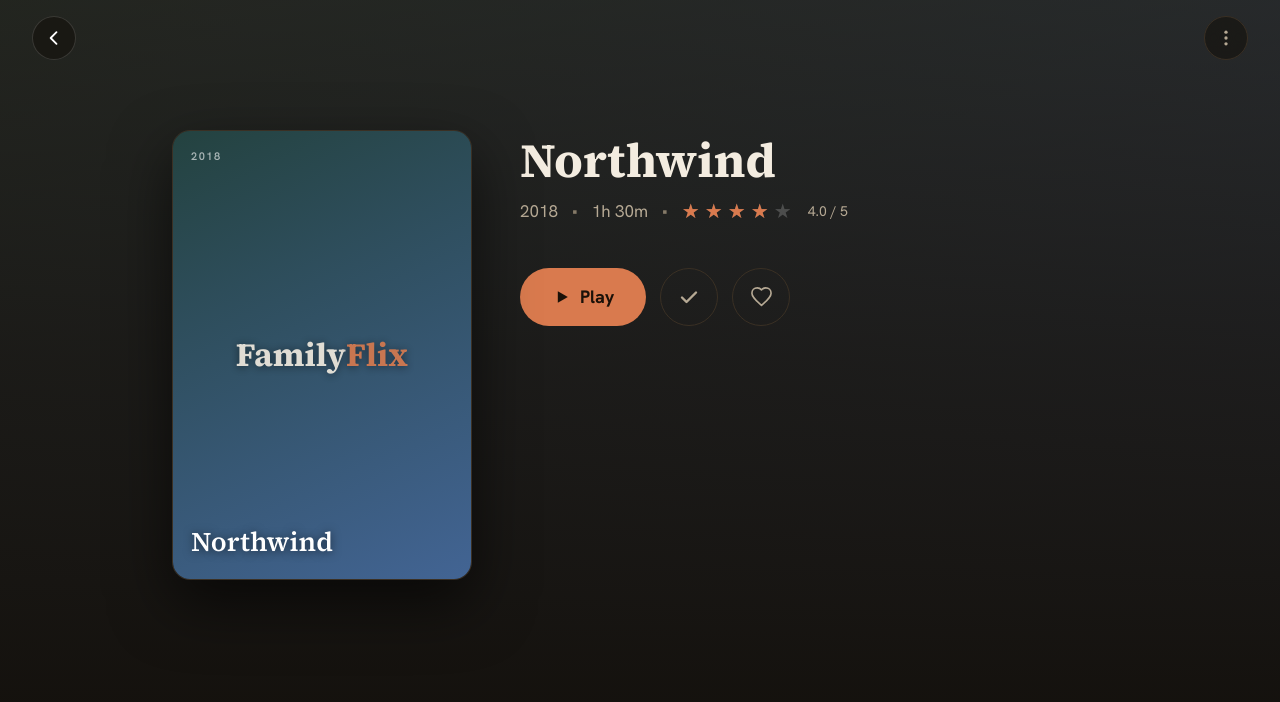
Scenario: App — the movie page’s navigating actions › opens Edit details on the form, pre-filled with that movie
Expected: the heading "Northwind" is shown, [520,127,776,193]
Step 1. Click the button named "more options" → x=1226, y=38, box [1204,16,1248,60]
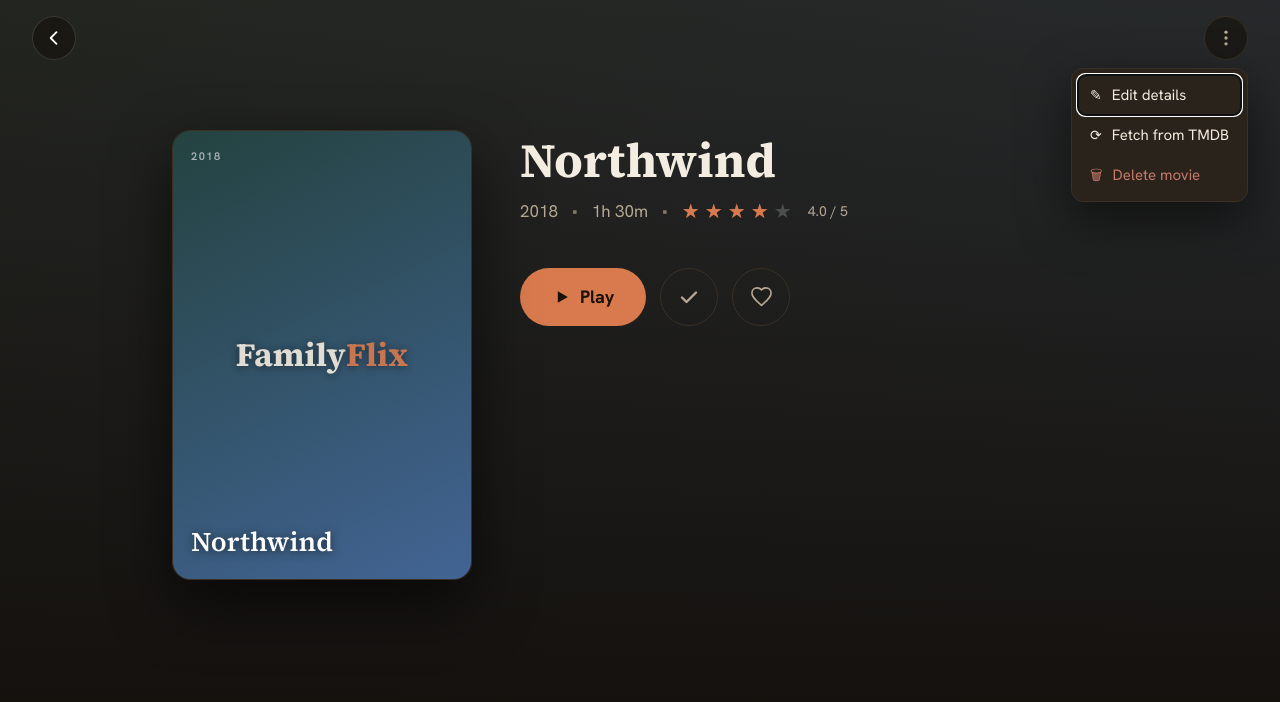
Step 2. Click the menu item "✎ Edit details" → x=1160, y=95, box [1078,75,1241,115]
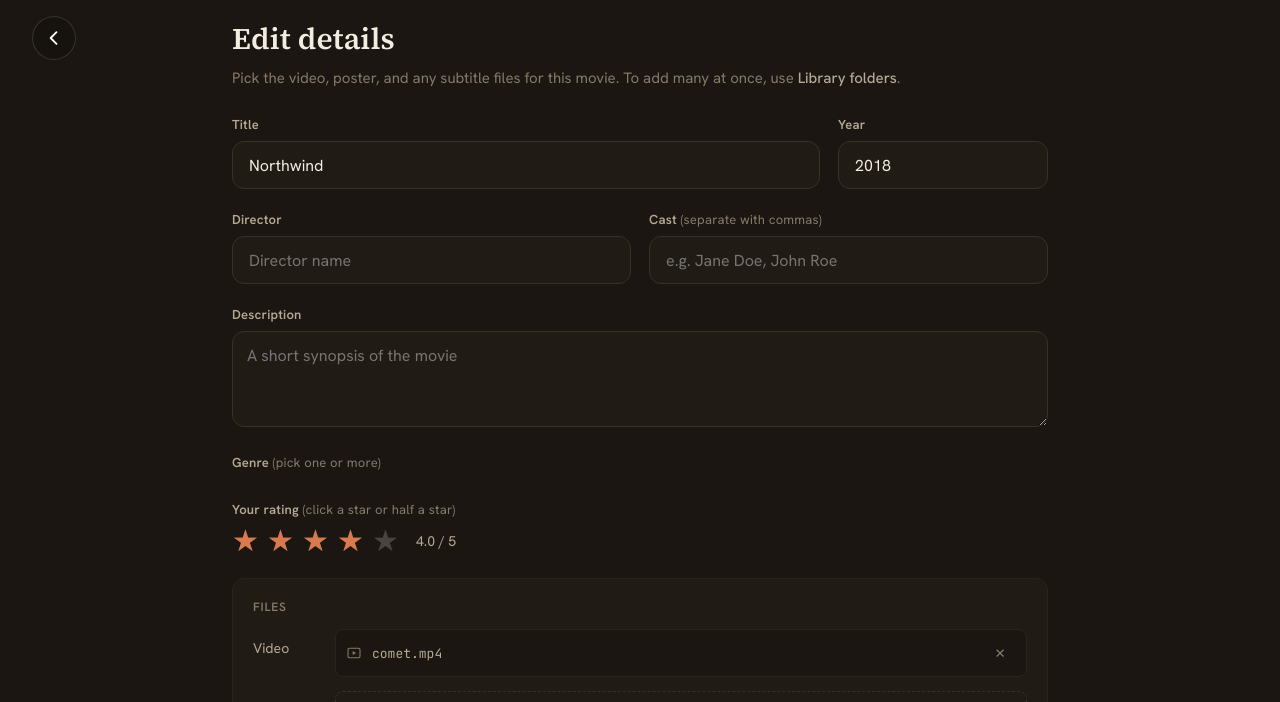
Result: the heading "Edit details" is shown at [232,18,395,58]
Result: the field labelled "Title" holds "Northwind" at [247,142,805,188]
